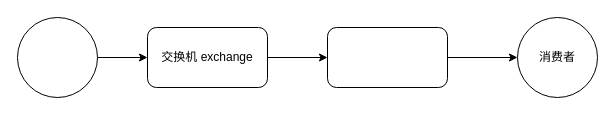
Some shapes in this 615 by 115 pixel diagram are drawn without their labels. The centre of each missing label's shape, as x and y in pixels:
"生产者" belongs at (57,57).
"队列 sequen" belongs at (387,57).
